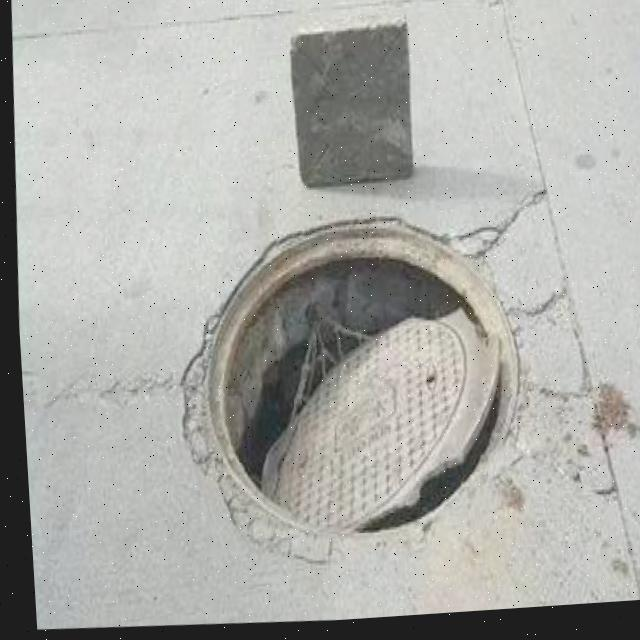manhole: (166, 200, 532, 564)
